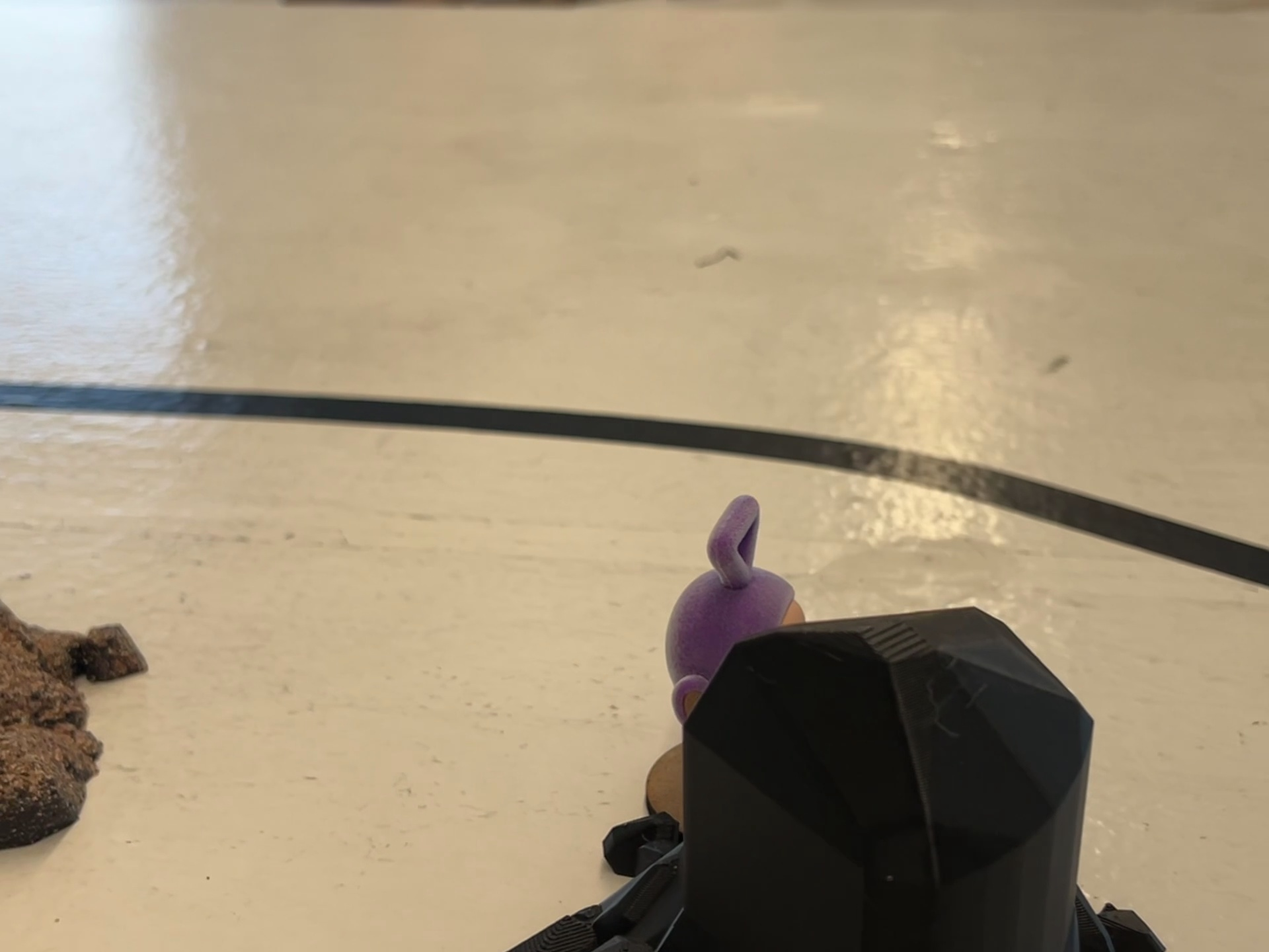teletubby: (666, 495, 806, 723)
